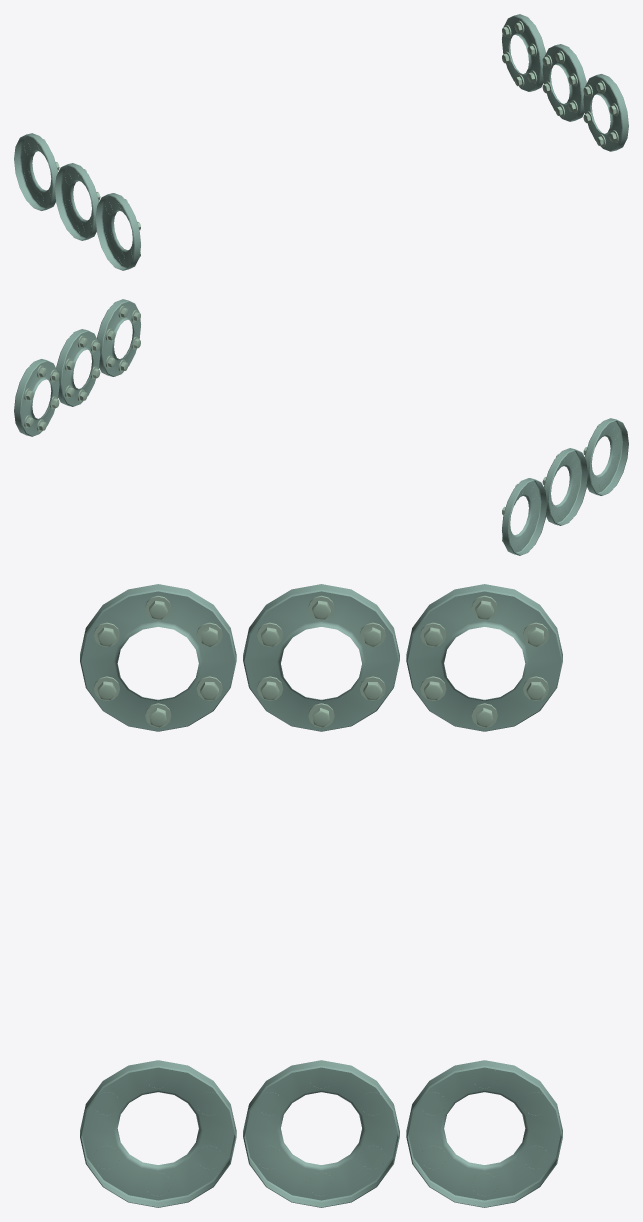
Rendered from PipeComplexLarge_A3_02_End.fbx.
The picture shows the model from 3 angles, top to bottom: view 1: azimuth 30°, elevation 25°; view 2: azimuth 150°, elevation 25°; view 3: azimuth 270°, elevation 25°; orthographic projection. The views are drawn at different scales.
Visible parts, largest first — view 1: PipeComplexLarge_A3_02_End.001; view 2: PipeComplexLarge_A3_02_End.001; view 3: PipeComplexLarge_A3_02_End.001.
Boxes of the visible parts, x1=… form: PipeComplexLarge_A3_02_End.001: x1=14, y1=14, x2=628, y2=270; PipeComplexLarge_A3_02_End.001: x1=14, y1=299, x2=628, y2=555; PipeComplexLarge_A3_02_End.001: x1=80, y1=584, x2=562, y2=1207.
Size of the model in its own units: 2.8 by 0.3846 by 1.18.
